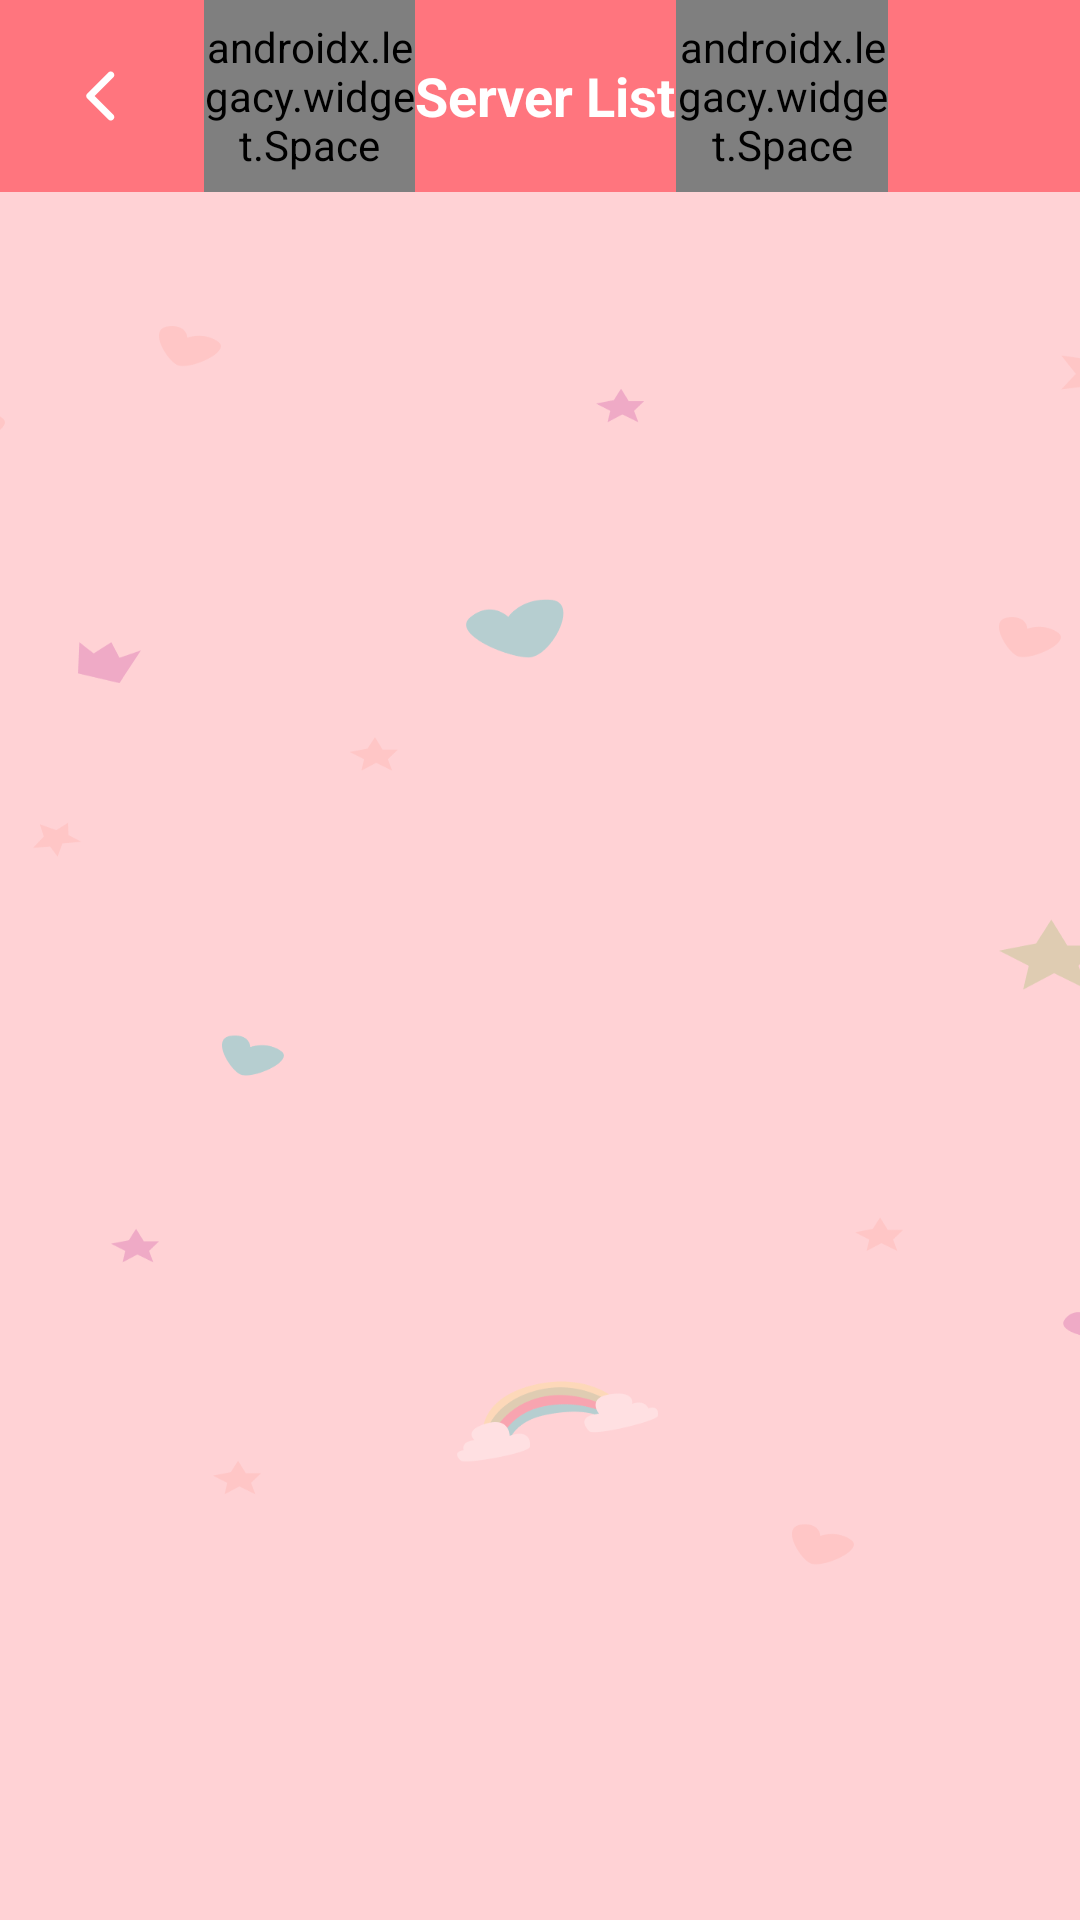

Screen size 1080*1920. Icon name, then its center in pixels as (x,y):
back: (102,96)
